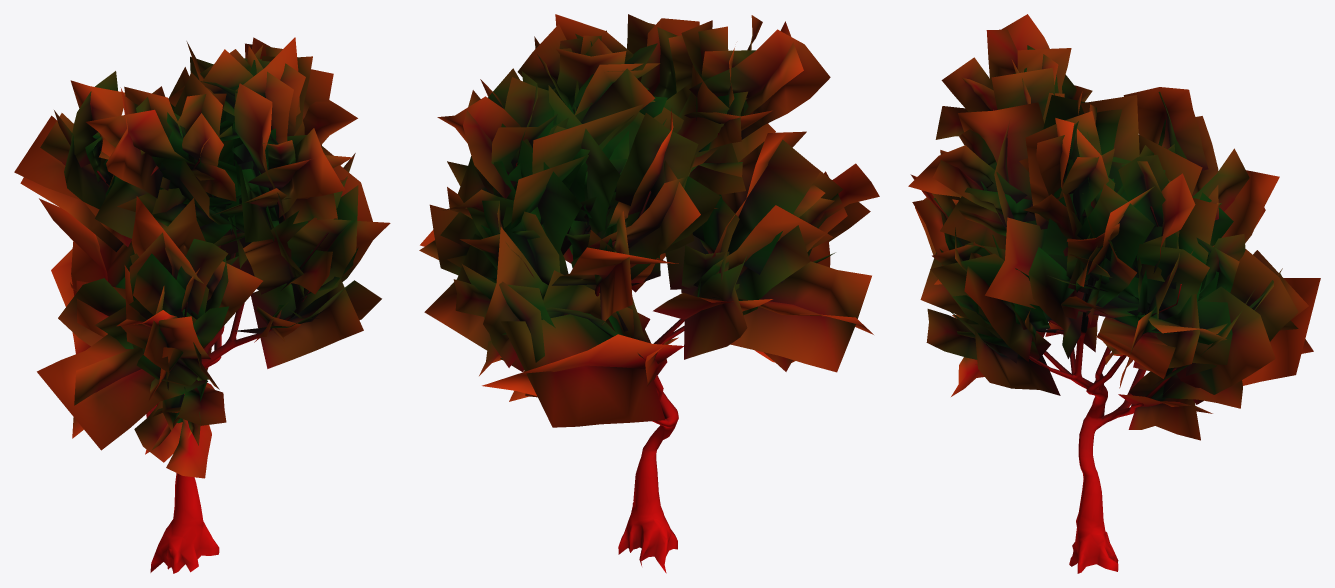
File: GenericTreeRHEWP_B.fbx
3 renders of one model, left to right at view 1: azimuth 30°, elevation 25°; view 2: azimuth 150°, elevation 25°; view 3: azimuth 270°, elevation 25°, orthographic. The views are drawn at different scales.
Parts seen in each view (by area): view 1: GTB_Leaves_LOD0, GTB_Bark_LOD0; view 2: GTB_Leaves_LOD0, GTB_Bark_LOD0; view 3: GTB_Leaves_LOD0, GTB_Bark_LOD0.
Boxes of the visible parts, box(x1,y1,x2,y2) form: GTB_Leaves_LOD0: box(14, 37, 390, 478); GTB_Bark_LOD0: box(96, 143, 328, 573); GTB_Leaves_LOD0: box(419, 14, 879, 427); GTB_Bark_LOD0: box(515, 162, 684, 573); GTB_Leaves_LOD0: box(908, 14, 1320, 440); GTB_Bark_LOD0: box(993, 109, 1181, 573).
Size of what is drawn, in the model's own units: 7.53 by 10.37 by 7.5.
